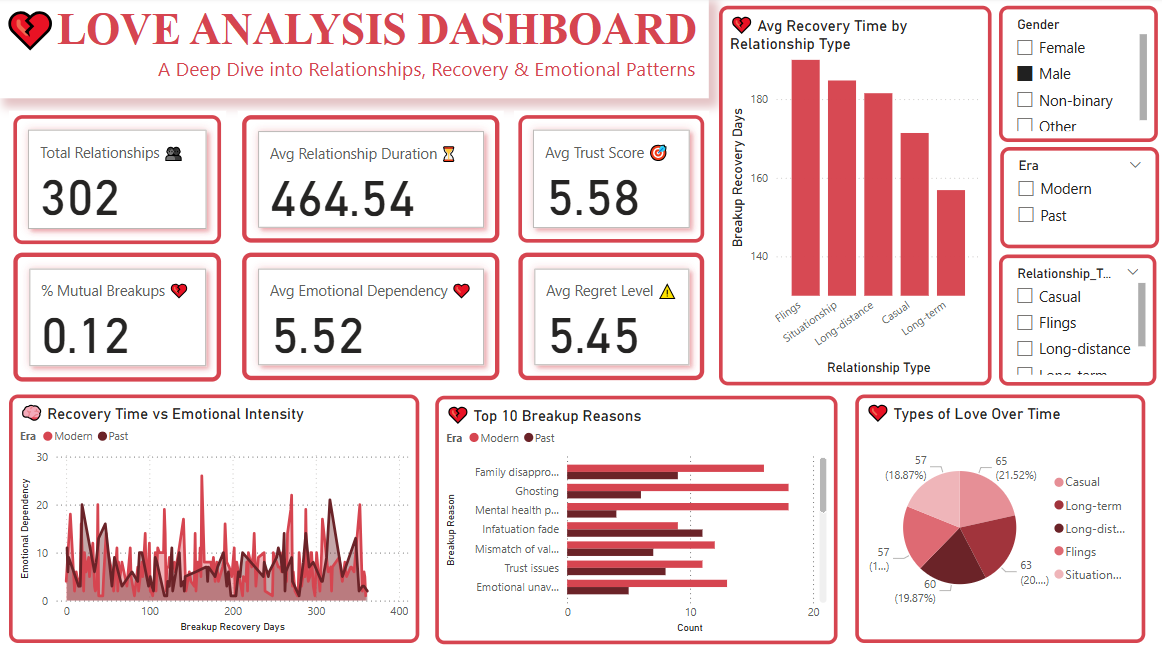

What the dashboard file says about the page in this screenshot:
{"tool":"powerbi","page":{"name":"Page 1","canvas":[1280,720],"ordinal":0},"visuals":[{"type":"textbox","box":[0,0,779.4,111.1],"z":0},{"type":"cardVisual","fields":{"Data":["Avg(Love_Analysis_Large_Dataset.Trust_Score)"]},"box":[565.4,124.9,214.1,150.9],"z":1000},{"type":"cardVisual","fields":{"Data":["CountNonNull(Love_Analysis_Large_Dataset.Person_ID)"]},"box":[11.4,124.3,238.6,151.4],"z":2000},{"type":"cardVisual","fields":{"Data":["Avg(Love_Analysis_Large_Dataset.Emotional_Dependency_Score)"]},"box":[262.1,275.8,292.3,150.9],"z":3000},{"type":"cardVisual","fields":{"Data":["Avg(Love_Analysis_Large_Dataset.Relationship_Duration_Days)"]},"box":[262.1,124.9,292.3,150.9],"z":4000},{"type":"cardVisual","fields":{"Data":["Avg(Love_Analysis_Large_Dataset.Regret_Level)"]},"box":[565.4,275.8,214.1,150.9],"z":5000},{"type":"cardVisual","fields":{"Data":["Sum(Love_Analysis_Large_Dataset.Percentage_Mutual_Breakups)"]},"box":[11.4,275.7,238.6,151.4],"z":6000},{"type":"pieChart","title":"❤️ Types of Love Over Time","fields":{"Category":["Love_Analysis_Large_Dataset.Relationship_Type"],"Y":["CountNonNull(Love_Analysis_Large_Dataset.Relationship_Type)"]},"box":[940,436.4,318.4,273.1],"z":7000},{"type":"lineChart","title":"🧠 Recovery Time vs Emotional Intensity","fields":{"Category":["Love_Analysis_Large_Dataset.Breakup_Recovery_Days"],"Y":["Sum(Love_Analysis_Large_Dataset.Emotional_Dependency_Score)"],"Series":["Love_Analysis_Large_Dataset.Era"]},"box":[11,436.4,450.1,273.1],"z":8000},{"type":"clusteredBarChart","title":"💔 Top 10 Breakup Reasons","fields":{"Category":["Love_Analysis_Large_Dataset.Breakup_Reason"],"Y":["CountNonNull(Love_Analysis_Large_Dataset.Breakup_Reason)"],"Series":["Love_Analysis_Large_Dataset.Era"]},"box":[478.9,437.7,441.9,273.1],"z":9000},{"type":"slicer","fields":{"Values":["Love_Analysis_Large_Dataset.Era"]},"box":[1099.1,164.7,174.3,111.1],"z":10000},{"type":"slicer","fields":{"Values":["Love_Analysis_Large_Dataset.Gender"]},"box":[1097.8,9.6,174.3,149.6],"z":11000},{"type":"columnChart","title":"💔 Avg Recovery Time by Relationship Type","fields":{"Category":["Love_Analysis_Large_Dataset.Relationship_Type"],"Y":["Avg(Love_Analysis_Large_Dataset.Breakup_Recovery_Days)"]},"box":[790.4,9.6,299.1,417.2],"z":13000},{"type":"slicer","fields":{"Values":["Love_Analysis_Large_Dataset.Relationship_Type"]},"box":[1097.8,282.7,172.9,144.1],"z":13001}]}

Visuals, with their boxes in screenshot pixels (x1, y1, x2, y2), scaled from the page's 1280x720 canvas onto the 1162x647 screenshot:
textbox: 0,0,708,100
cardVisual - Avg(Love_Analysis_Large_Dataset.Trust_Score): 513,112,708,248
cardVisual - CountNonNull(Love_Analysis_Large_Dataset.Person_ID): 10,112,227,248
cardVisual - Avg(Love_Analysis_Large_Dataset.Emotional_Dependency_Score): 238,248,503,383
cardVisual - Avg(Love_Analysis_Large_Dataset.Relationship_Duration_Days): 238,112,503,248
cardVisual - Avg(Love_Analysis_Large_Dataset.Regret_Level): 513,248,708,383
cardVisual - Sum(Love_Analysis_Large_Dataset.Percentage_Mutual_Breakups): 10,248,227,384
"❤️ Types of Love Over Time" pieChart: 853,392,1142,638
"🧠 Recovery Time vs Emotional Intensity" lineChart: 10,392,419,638
"💔 Top 10 Breakup Reasons" clusteredBarChart: 435,393,836,639
slicer - Love_Analysis_Large_Dataset.Era: 998,148,1156,248
slicer - Love_Analysis_Large_Dataset.Gender: 997,9,1155,143
"💔 Avg Recovery Time by Relationship Type" columnChart: 718,9,989,384
slicer - Love_Analysis_Large_Dataset.Relationship_Type: 997,254,1154,384
